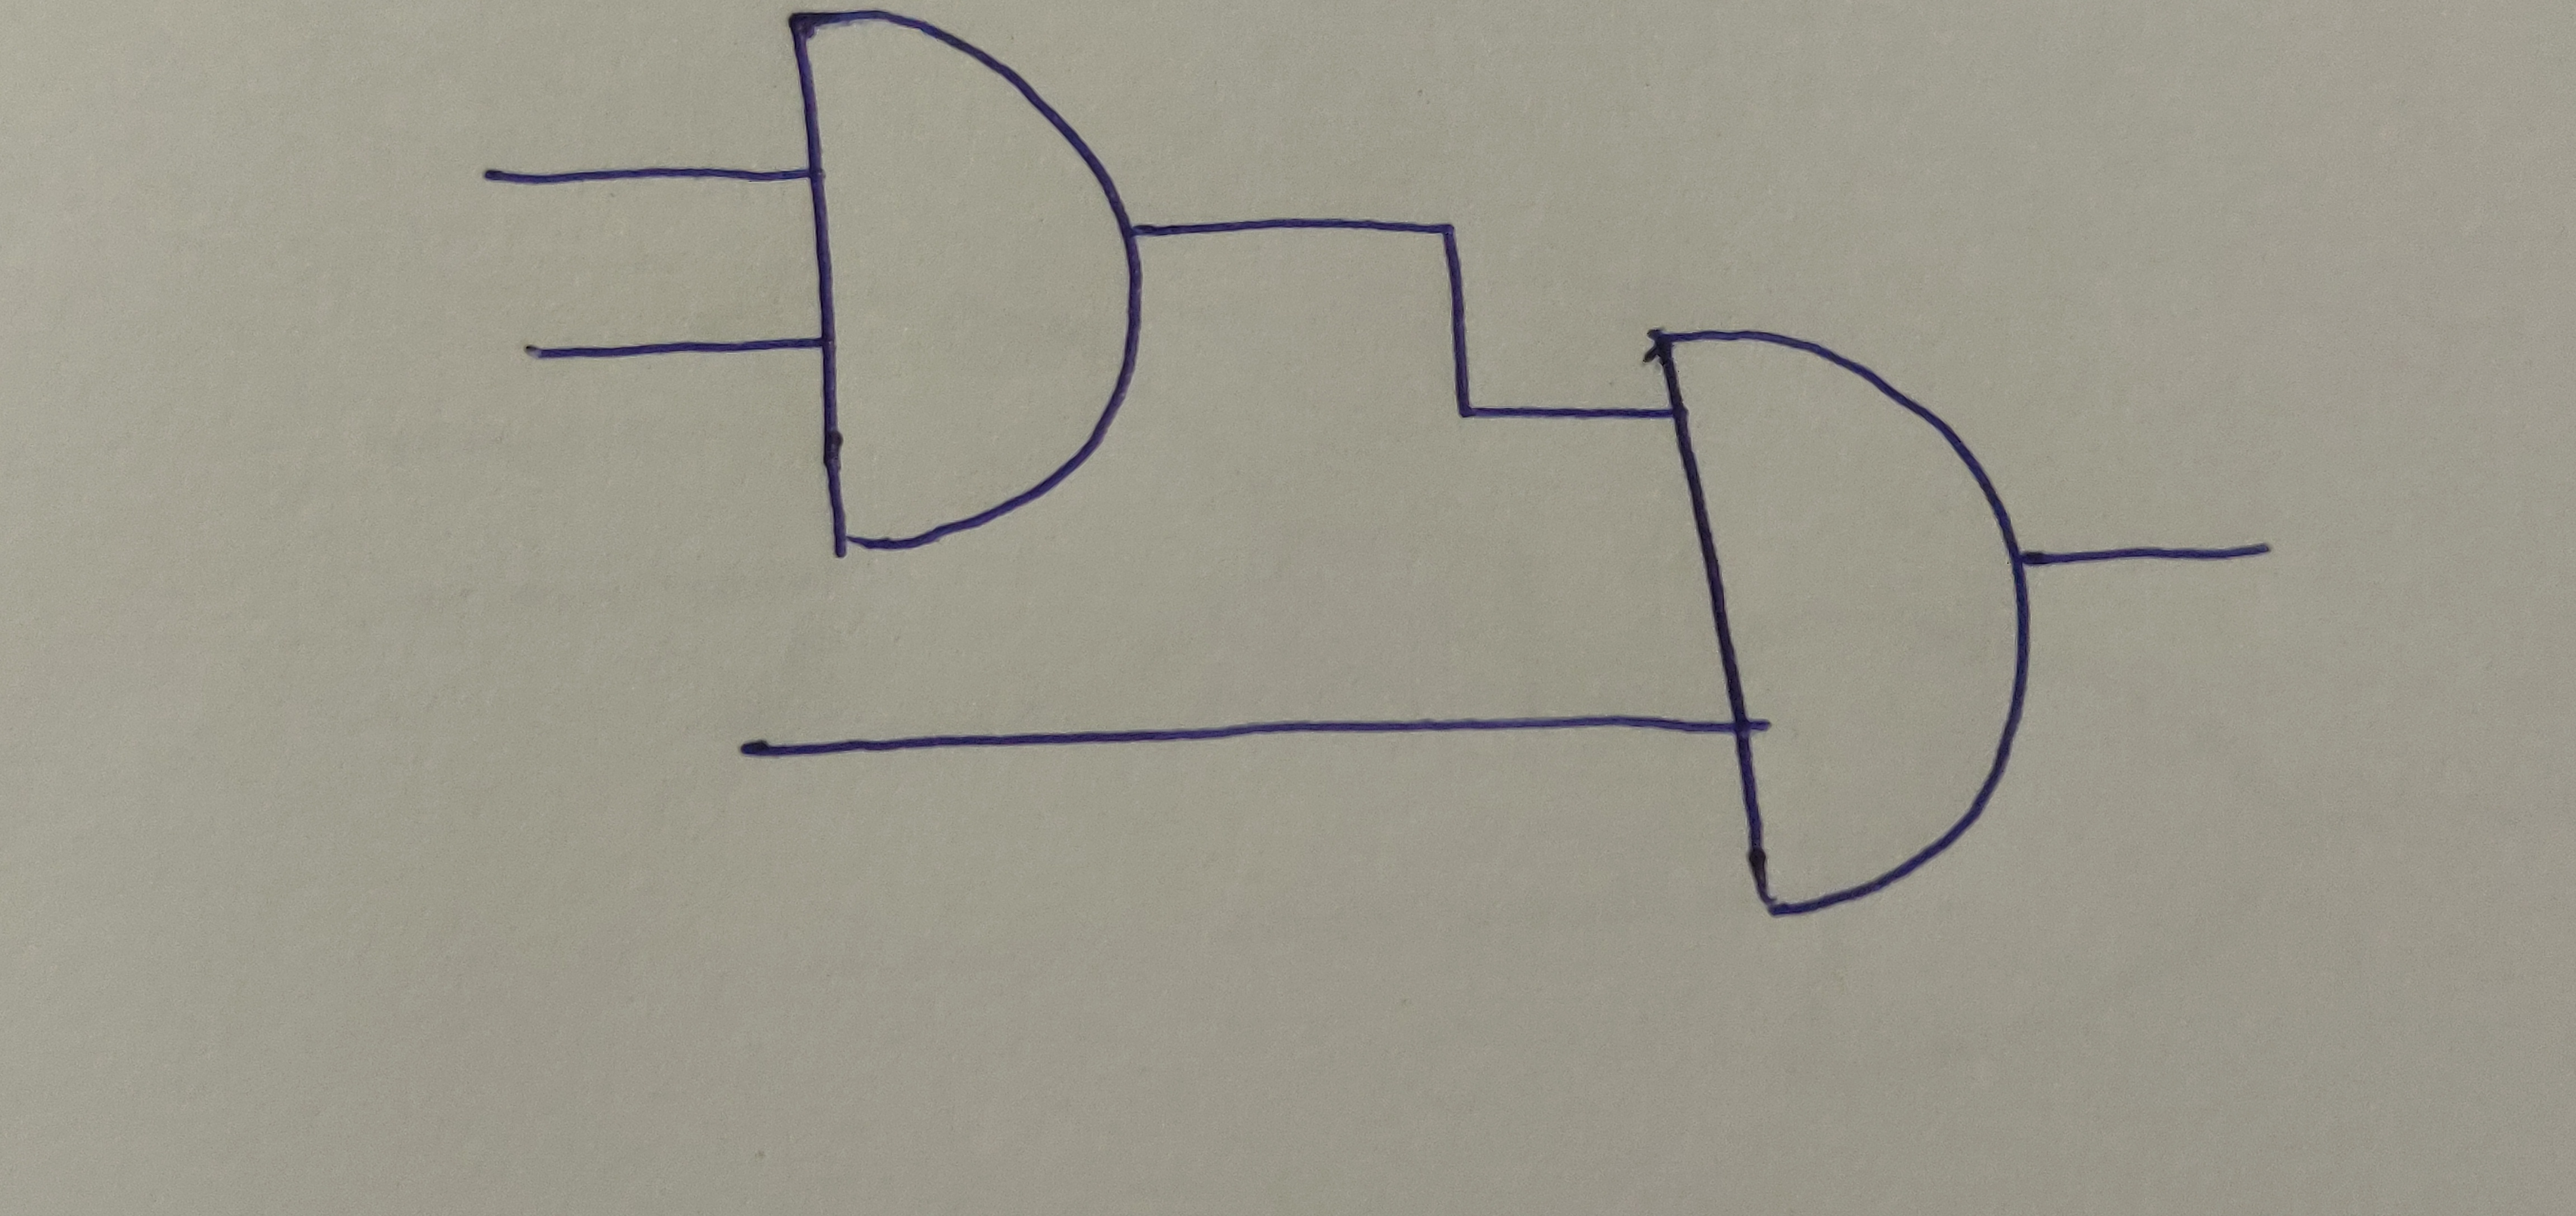and: (1653, 327, 2032, 920), (785, 10, 1147, 554)
